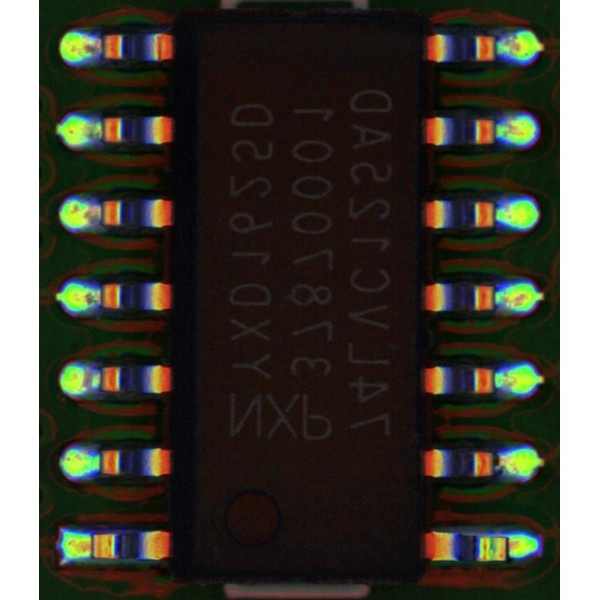Bad_qiaojiao: (78, 540, 110, 556), (491, 540, 521, 553)
